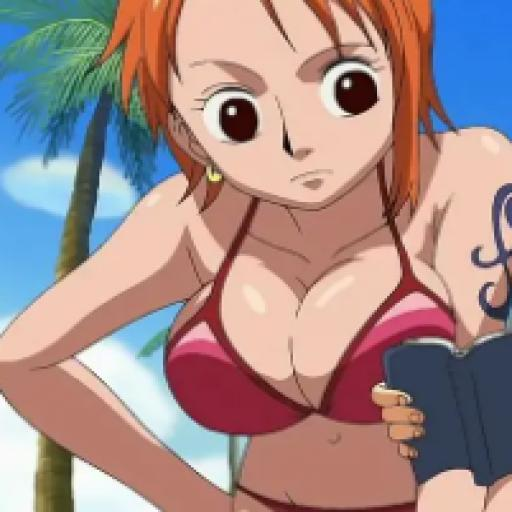Nami: (3, 4, 512, 512)
